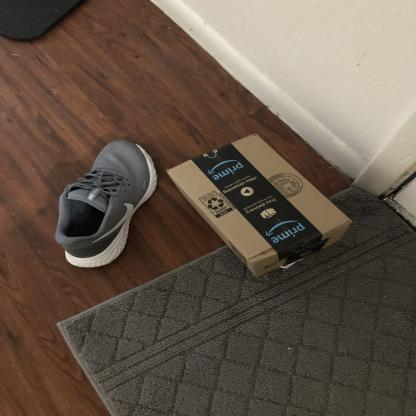package: (162, 131, 357, 286)
